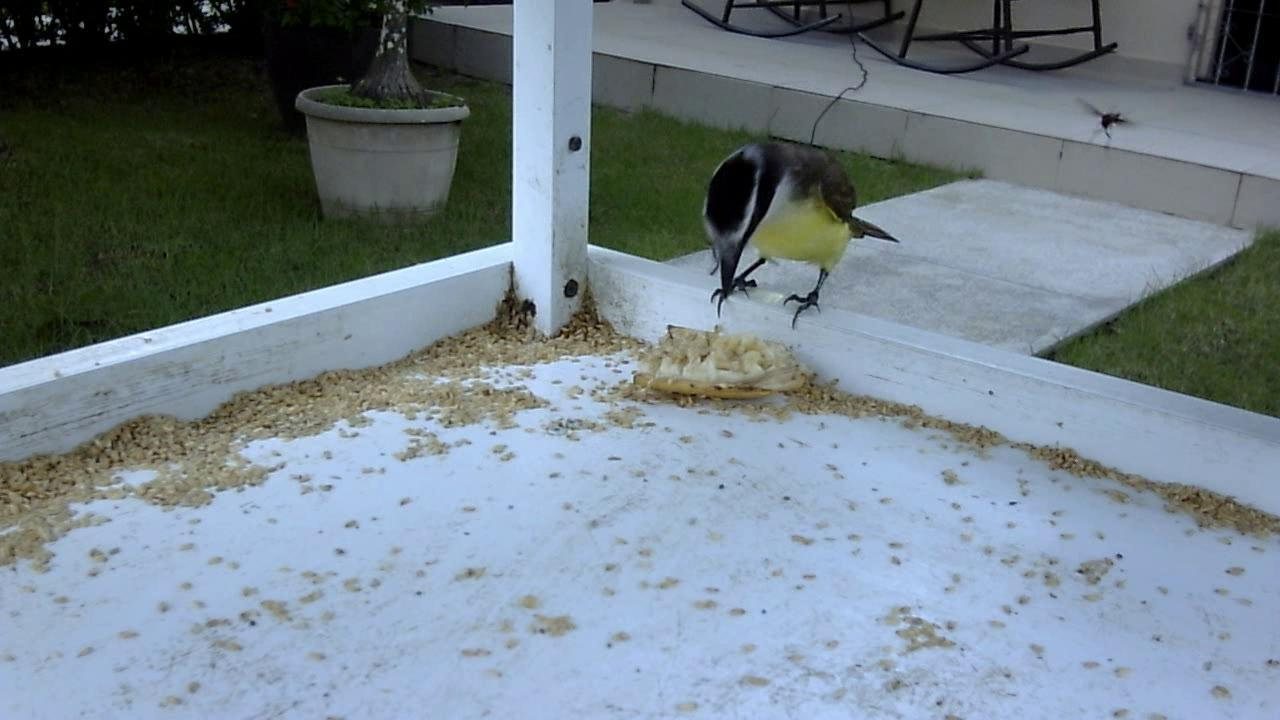bem_te_vi: (690, 124, 903, 348)
